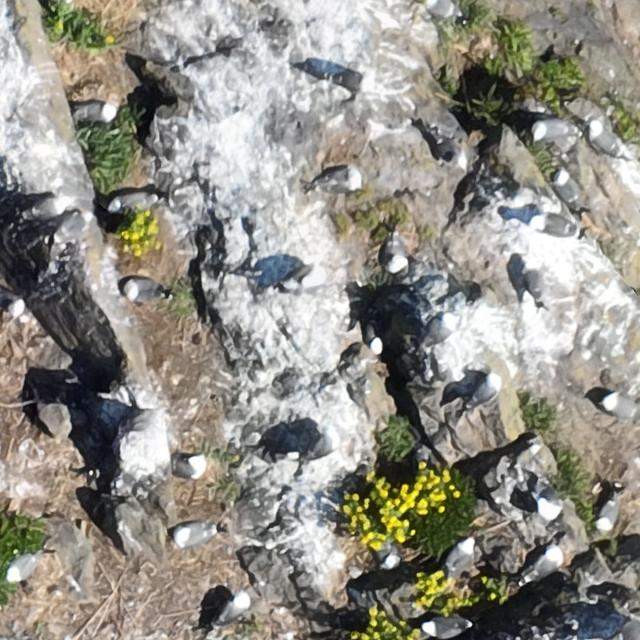umineko: (416, 120, 472, 171), (522, 210, 588, 236), (584, 121, 626, 159), (275, 265, 326, 295), (535, 486, 574, 525), (518, 259, 548, 309), (176, 448, 210, 487), (422, 312, 458, 348), (370, 534, 402, 574), (310, 423, 342, 462), (362, 322, 392, 362), (527, 548, 561, 578), (8, 553, 38, 580), (471, 375, 499, 403), (112, 192, 151, 212), (323, 168, 358, 190), (177, 523, 213, 544), (602, 396, 636, 418), (448, 539, 472, 570), (424, 619, 462, 637), (126, 284, 162, 303), (76, 102, 112, 121), (596, 499, 617, 530), (221, 594, 245, 621), (534, 121, 568, 139), (328, 70, 362, 87), (426, 0, 458, 18), (554, 174, 574, 202), (388, 241, 404, 272)
